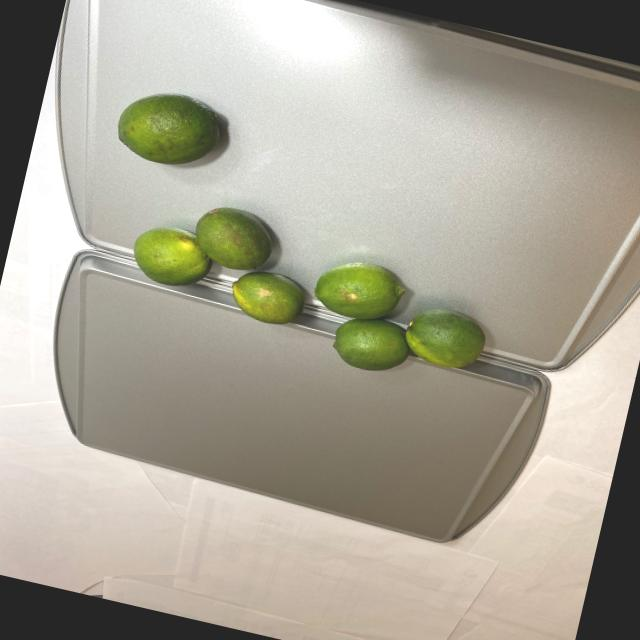lemon: (112, 187, 504, 395), (108, 81, 232, 180)
